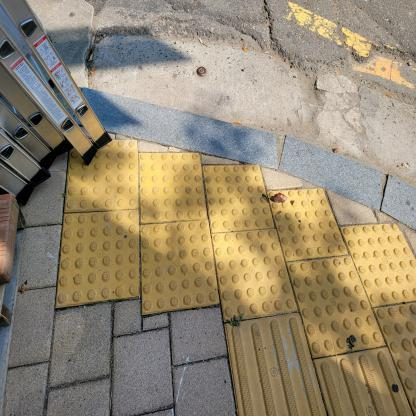podotacti: (47, 109, 415, 415)
